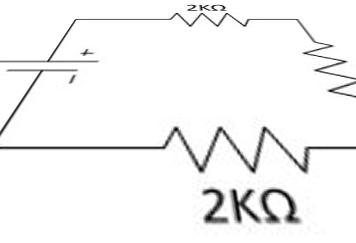resistor: (147, 99, 320, 182), (295, 32, 355, 107), (160, 8, 254, 43)
